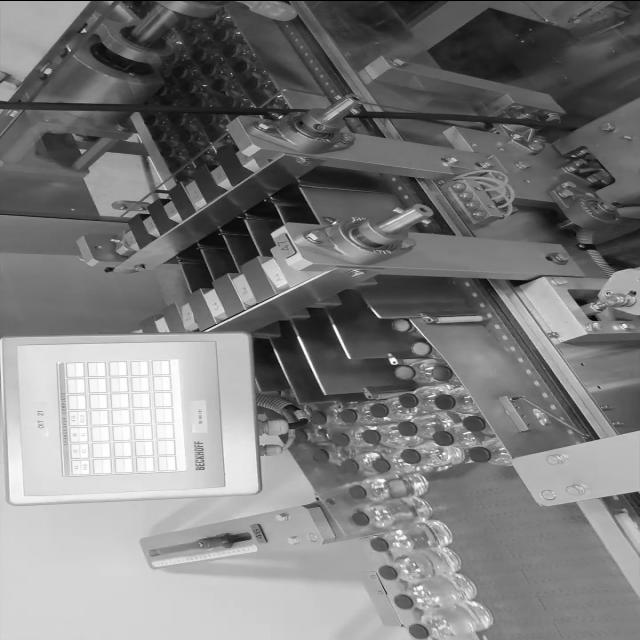vial: (432, 363, 452, 382), (434, 394, 456, 410), (398, 360, 414, 378), (402, 448, 421, 463), (464, 414, 482, 429), (411, 622, 428, 637), (414, 339, 432, 353), (399, 420, 414, 436), (403, 390, 419, 404), (348, 485, 366, 497), (363, 428, 378, 442), (343, 457, 358, 471), (342, 408, 358, 421), (294, 428, 310, 441), (372, 400, 386, 414), (373, 536, 387, 550), (472, 448, 488, 460), (333, 433, 349, 445), (396, 594, 412, 606), (376, 459, 390, 471), (392, 320, 410, 328), (315, 412, 329, 422), (316, 451, 328, 462), (355, 513, 367, 523), (380, 568, 394, 576)
